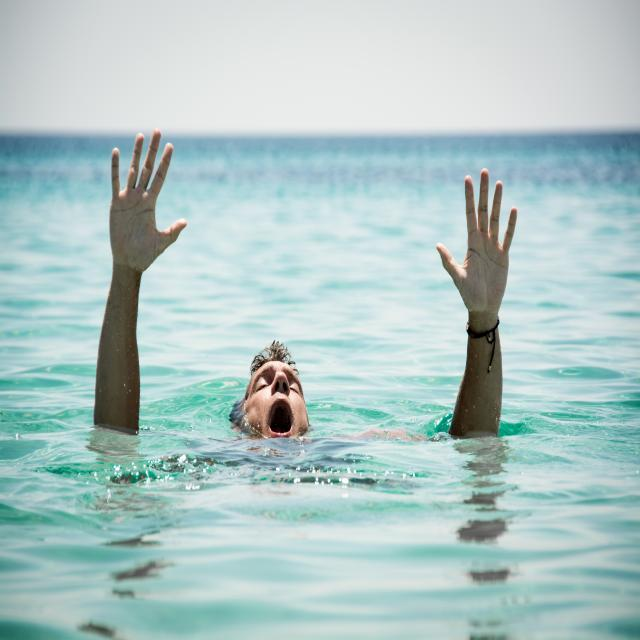Out of Water: (101, 119, 522, 486)
